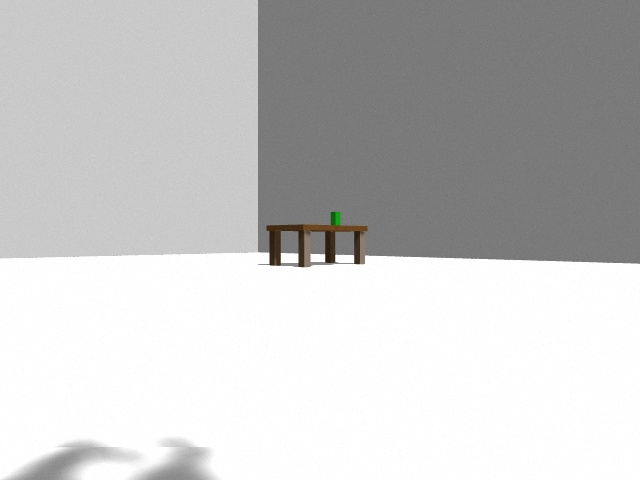green_cube: (331, 212, 340, 225)
